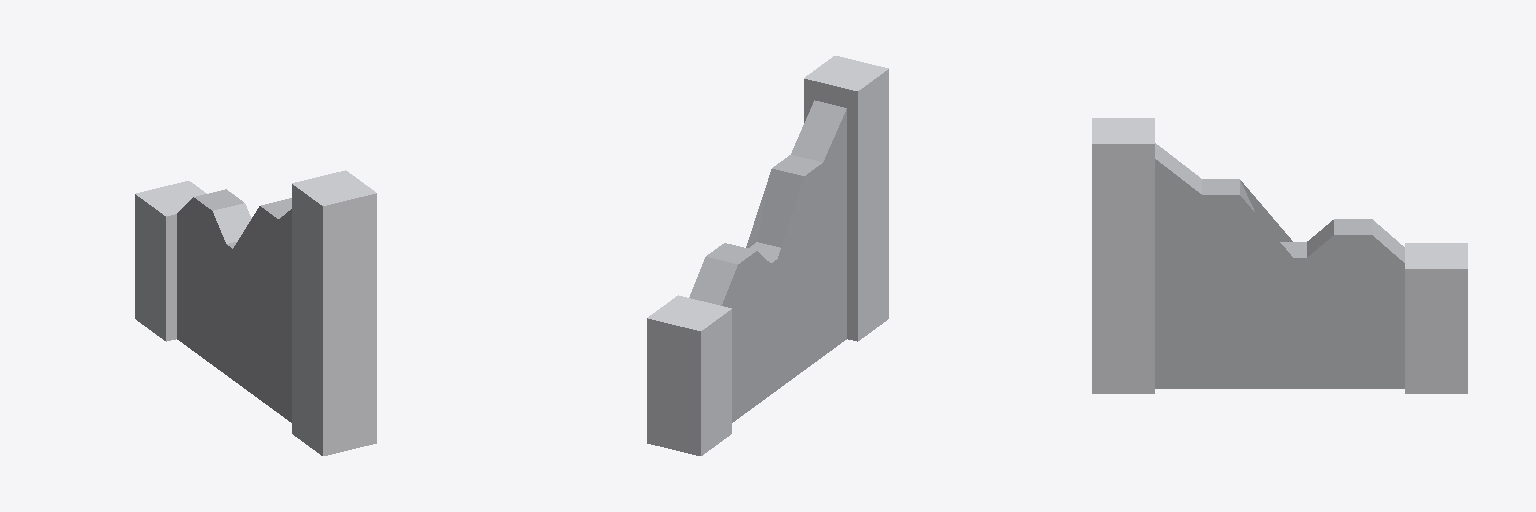
File: M_Grey_Broken_Wall_01.obj
3 views of the same model, side by side, from view 1: azimuth 30°, elevation 25°; view 2: azimuth 150°, elevation 25°; view 3: azimuth 270°, elevation 25° (orthographic).
Parts seen in each view (by area): view 1: Mesh1_Grey_Broken_Wall_Model; view 2: Mesh1_Grey_Broken_Wall_Model; view 3: Mesh1_Grey_Broken_Wall_Model.
Boxes of the visible parts, x1=… form: Mesh1_Grey_Broken_Wall_Model: x1=135, y1=170, x2=376, y2=455; Mesh1_Grey_Broken_Wall_Model: x1=647, y1=56, x2=888, y2=455; Mesh1_Grey_Broken_Wall_Model: x1=1092, y1=118, x2=1467, y2=393.
Size of the model in its own units: 0.5 by 2.2 by 3.